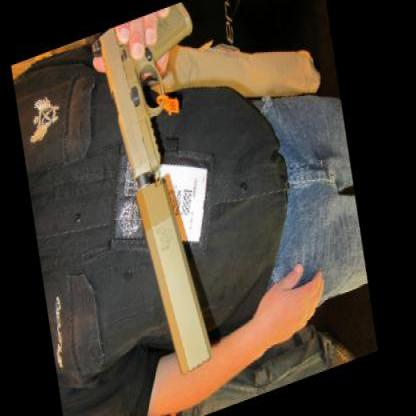pistol: (72, 0, 228, 203)
